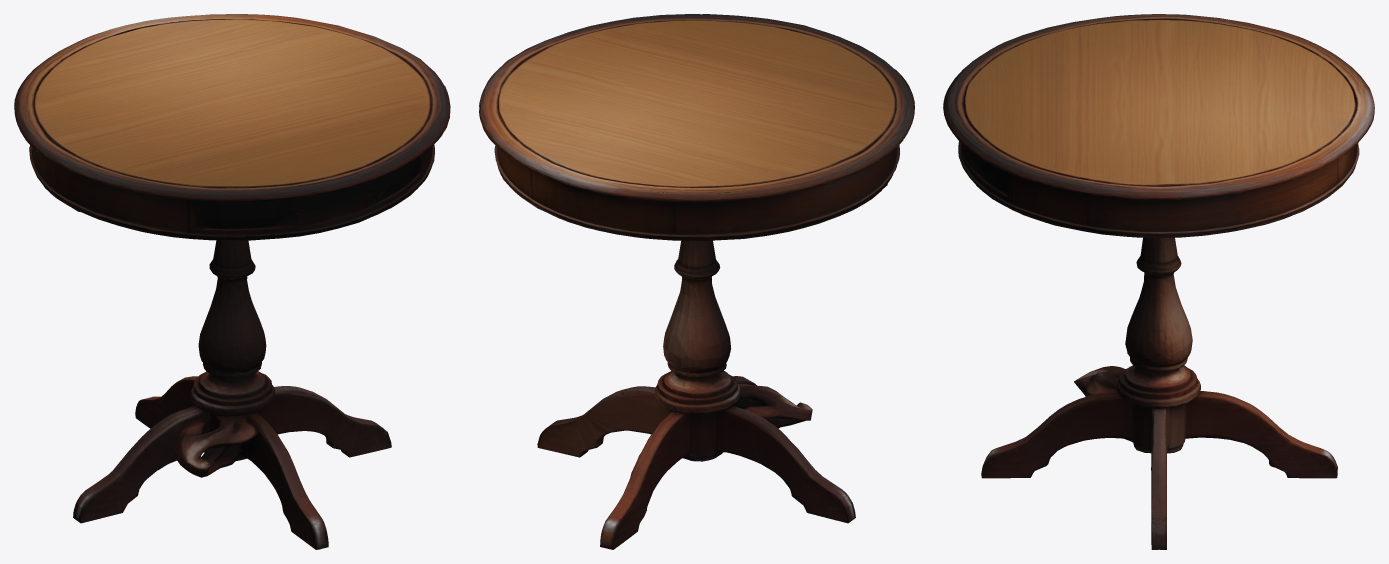
The model's file is roundtable-trellis.glb.
3 views of the same model, side by side, from view 1: azimuth 30°, elevation 25°; view 2: azimuth 150°, elevation 25°; view 3: azimuth 270°, elevation 25° (orthographic).
Parts seen in each view (by area): view 1: geometry_0; view 2: geometry_0; view 3: geometry_0.
Part boxes in pixels (bbox=[...]): geometry_0: bbox=[14, 14, 450, 549]; geometry_0: bbox=[479, 14, 914, 549]; geometry_0: bbox=[943, 14, 1374, 549].
Bounding box in the file's own units: 0.9721 × 0.9271 × 0.9714.
1 material, 1 textured.
